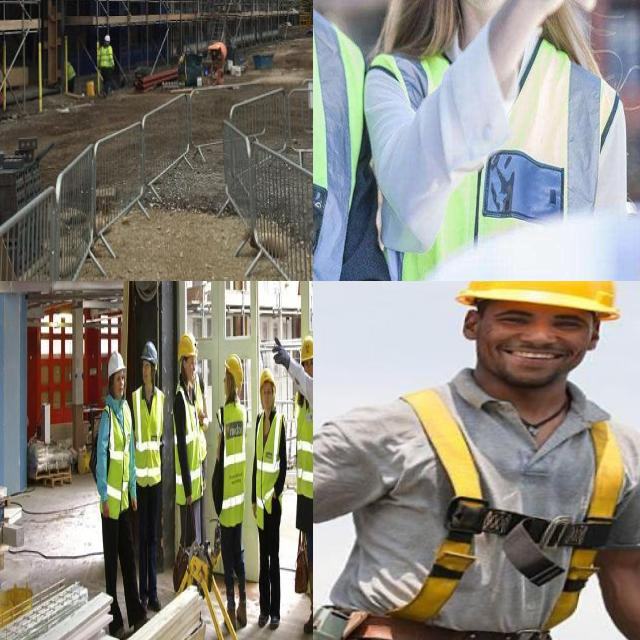Harness: (389, 389, 625, 632)
face_nomask: (112, 367, 124, 401), (180, 355, 197, 378), (260, 381, 273, 409), (140, 362, 152, 389)
hand_glove: (268, 334, 294, 380)
hand_noglove: (100, 493, 110, 523), (130, 487, 138, 513)
head_helmet: (223, 351, 244, 390), (176, 334, 197, 364), (107, 351, 125, 381), (140, 340, 158, 367), (259, 368, 277, 394), (299, 334, 313, 366), (103, 34, 109, 44)
person: (370, 0, 627, 281), (97, 349, 145, 633), (212, 358, 251, 632), (133, 338, 168, 612), (254, 369, 284, 633), (172, 331, 205, 560), (295, 337, 313, 640), (96, 35, 115, 91)
shoes: (146, 587, 163, 612), (236, 596, 248, 630), (255, 604, 270, 631), (302, 609, 313, 638), (269, 607, 281, 632)
vest: (378, 54, 622, 281), (99, 395, 132, 515), (216, 397, 247, 523), (254, 412, 285, 526), (172, 384, 200, 502), (130, 381, 162, 484), (294, 393, 313, 498), (96, 44, 115, 70)
